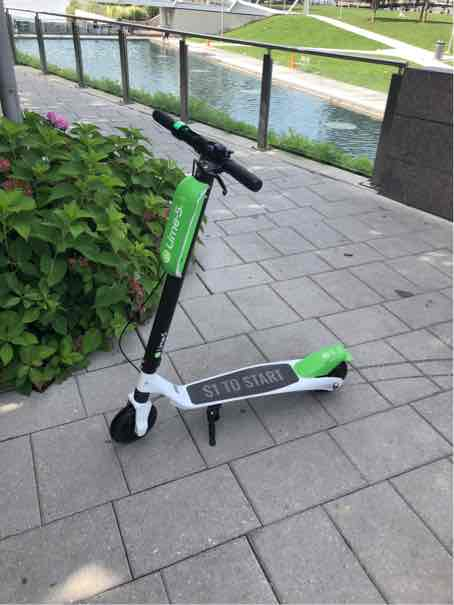scooter: (104, 89, 356, 457)
